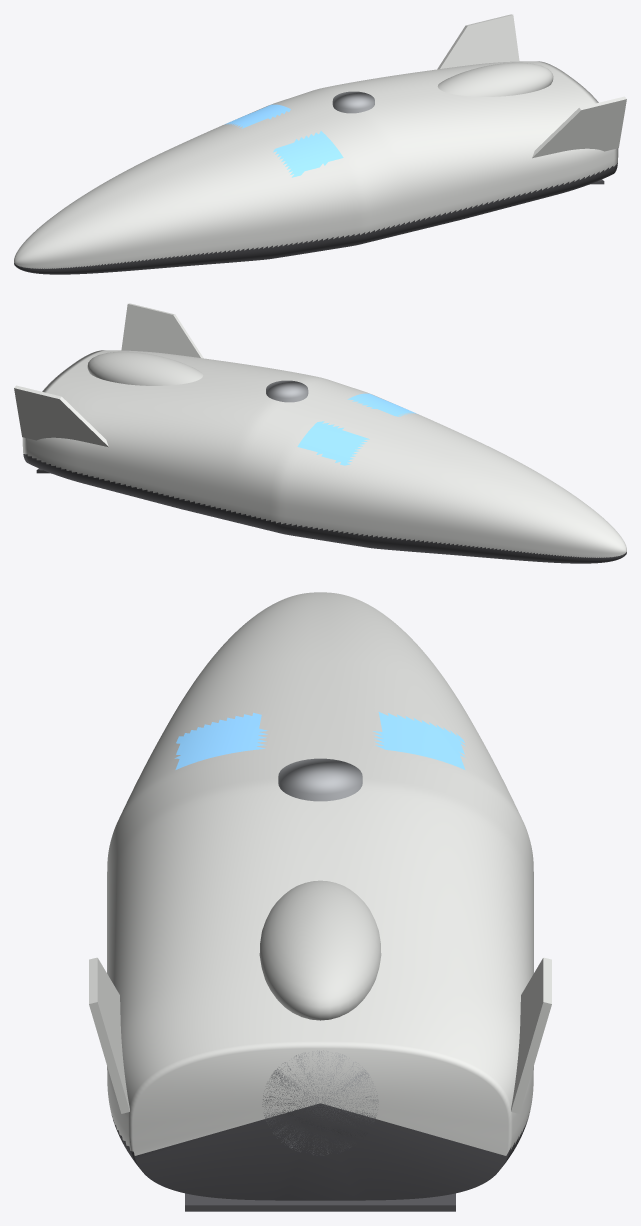
Rendered from shuttle_v2b.glb.
The picture shows the model from 3 angles, top to bottom: view 1: azimuth 30°, elevation 25°; view 2: azimuth 150°, elevation 25°; view 3: azimuth 270°, elevation 25°; orthographic projection. The views are drawn at different scales.
Parts seen in each view (by area): view 1: hull, belly_tps, fin_port, kit_pod, fin_stbd, glazing, hatch_trunk; view 2: hull, belly_tps, fin_stbd, kit_pod, fin_port, glazing, hatch_trunk; view 3: hull, belly_tps, kit_pod, glazing, body_flap, torch_nozzle, fin_stbd, fin_port, hatch_trunk.
Boxes of the visible parts, bbox=[...] form: hull: bbox=[14, 61, 618, 268]; belly_tps: bbox=[14, 163, 617, 274]; fin_port: bbox=[532, 96, 626, 158]; kit_pod: bbox=[437, 62, 553, 96]; fin_stbd: bbox=[437, 14, 519, 69]; glazing: bbox=[224, 104, 343, 177]; hatch_trunk: bbox=[332, 91, 374, 113]; hull: bbox=[22, 350, 626, 557]; belly_tps: bbox=[23, 454, 626, 563]; fin_stbd: bbox=[14, 385, 108, 447]; kit_pod: bbox=[87, 351, 203, 385]; fin_port: bbox=[121, 303, 203, 358]; glazing: bbox=[297, 393, 416, 465]; hatch_trunk: bbox=[266, 380, 308, 402]; hull: bbox=[107, 592, 533, 1155]; belly_tps: bbox=[111, 1103, 528, 1200]; kit_pod: bbox=[259, 880, 381, 1020]; glazing: bbox=[174, 712, 465, 769]; body_flap: bbox=[185, 1193, 455, 1211]; torch_nozzle: bbox=[262, 1050, 378, 1155]; fin_stbd: bbox=[511, 957, 551, 1113]; fin_port: bbox=[89, 957, 129, 1113]; hatch_trunk: bbox=[278, 758, 362, 801].
Size of the model in its own units: 12.8 by 2.46 by 4.61.
